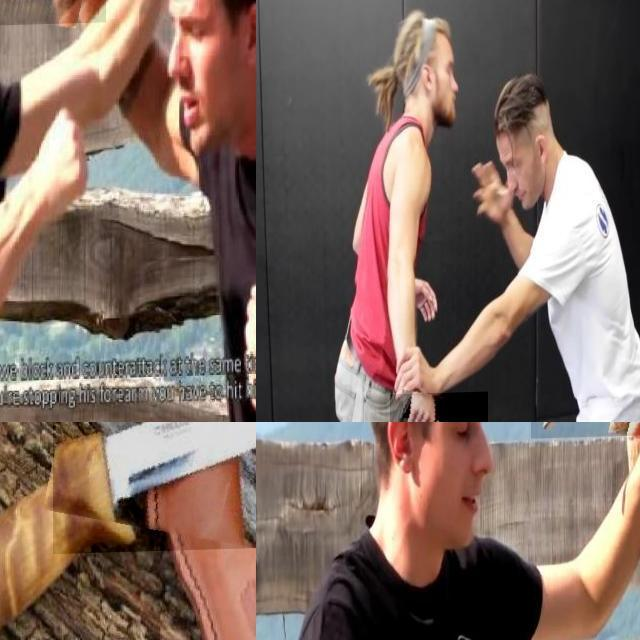-: (52, 422, 256, 555), (0, 0, 105, 99), (531, 422, 640, 505), (389, 393, 488, 422)
